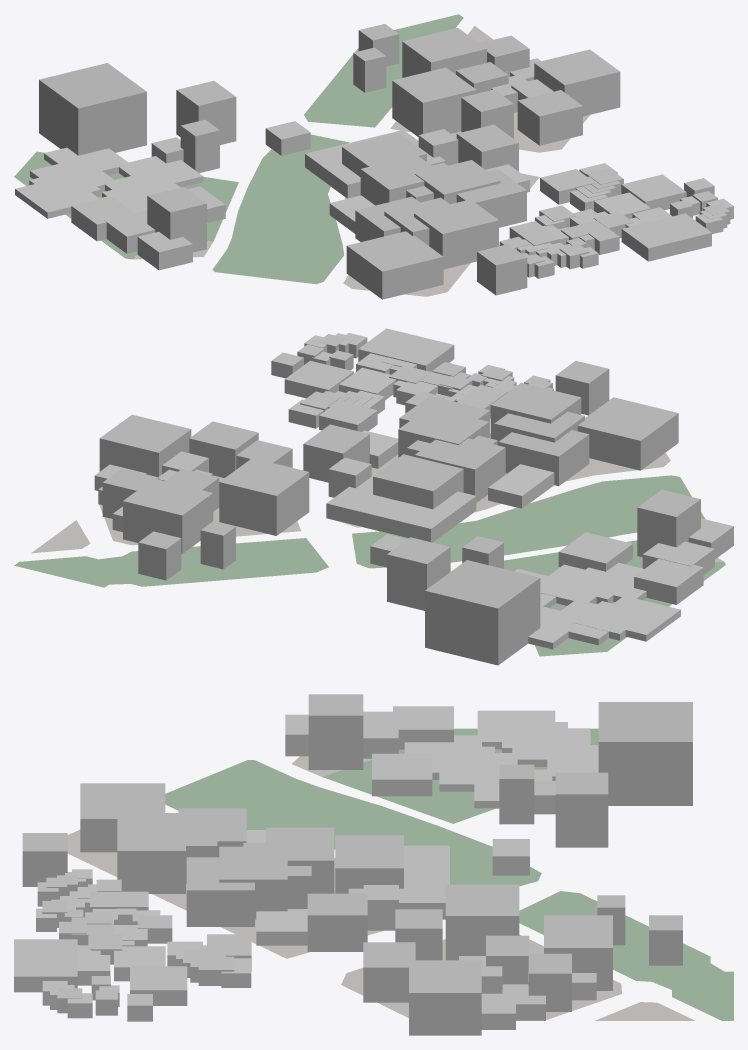
File: 130_107_mid.glb
3 renders of one model, top to bottom at view 1: azimuth 30°, elevation 25°; view 2: azimuth 150°, elevation 25°; view 3: azimuth 270°, elevation 25°, orthographic. The views are drawn at different scales.
Bounding box in the file's own units: 543 × 51.42 × 521.
